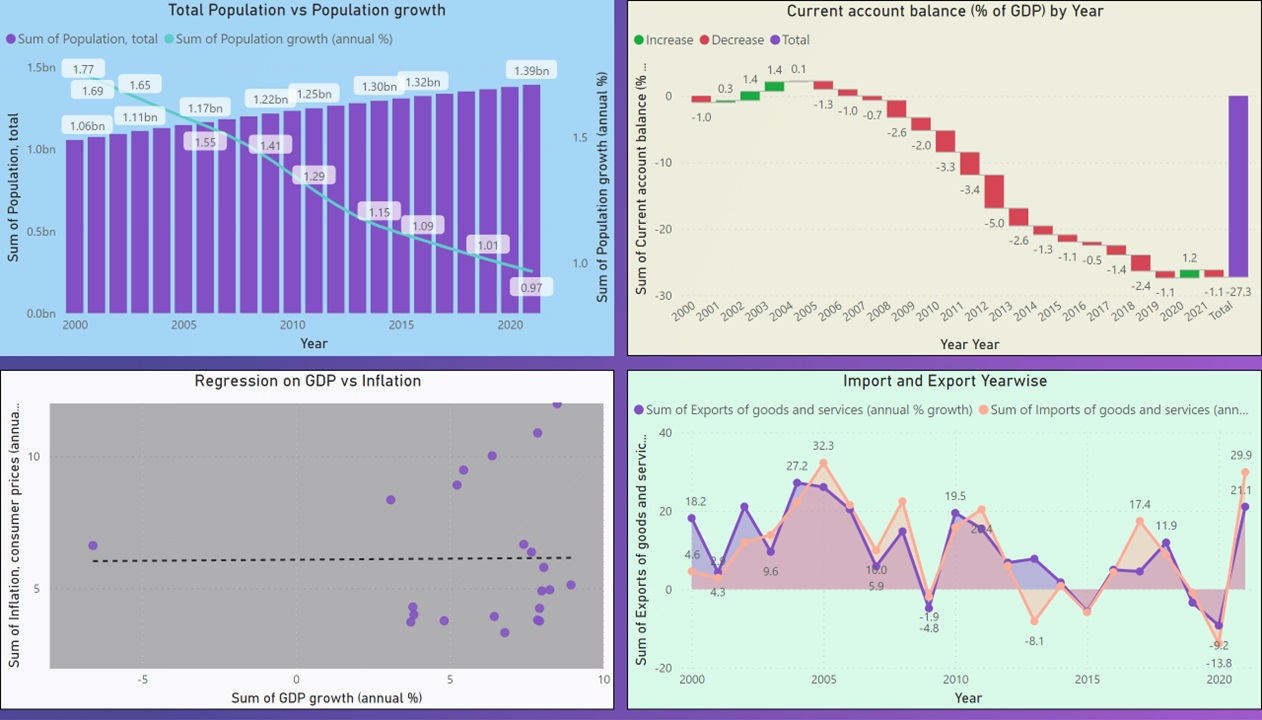

This screenshot's page, from the dashboard's own definition file:
{"tool":"powerbi","page":{"name":"Dashboard  2","canvas":[1280,720],"ordinal":1},"visuals":[{"type":"areaChart","title":"Import and Export Yearwise","fields":{"Category":["Sheet1.Year.Variation.Date Hierarchy.Year"],"Y":["Sum(Sheet1.Exports of goods and services (annual % growth))","Sum(Sheet1.Imports of goods and services (annual % growth))"]},"box":[635.9,375.4,644,344.6],"z":0},{"type":"scatterChart","title":"Regression on GDP vs Inflation ","fields":{"Category":["Sheet1.Year.Variation.Date Hierarchy.Year"],"X":["Sum(Sheet1.GDP growth (annual %))"],"Y":["Sum(Sheet1.Inflation, consumer prices (annual %))"]},"box":[0,375.4,622.9,344.6],"z":1},{"type":"waterfallChart","title":"Current account balance (% of GDP) by Year","fields":{"Category":["Sheet1.Year.Variation.Date Hierarchy.Year"],"Y":["Sum(Sheet1.Current account balance (% of GDP))"]},"box":[635.9,0,644,360.8],"z":2},{"type":"lineClusteredColumnComboChart","title":"Total Population vs Population growth","fields":{"Category":["Sheet1.Year.Variation.Date Hierarchy.Year"],"Y":["Sum(Sheet1.Population, total)"],"Y2":["Sum(Sheet1.Population growth (annual %))"]},"box":[0,0,622.9,360.8],"z":3}]}

Visuals, with their boxes in screenshot pixels (x1, y1, x2, y2), scaled from the page's 1280x720 canvas onto the 1262x720 screenshot:
"Import and Export Yearwise" areaChart: detection(627, 375, 1261, 719)
"Regression on GDP vs Inflation " scatterChart: detection(0, 375, 614, 719)
"Current account balance (% of GDP) by Year" waterfallChart: detection(627, 0, 1261, 361)
"Total Population vs Population growth" lineClusteredColumnComboChart: detection(0, 0, 614, 361)
